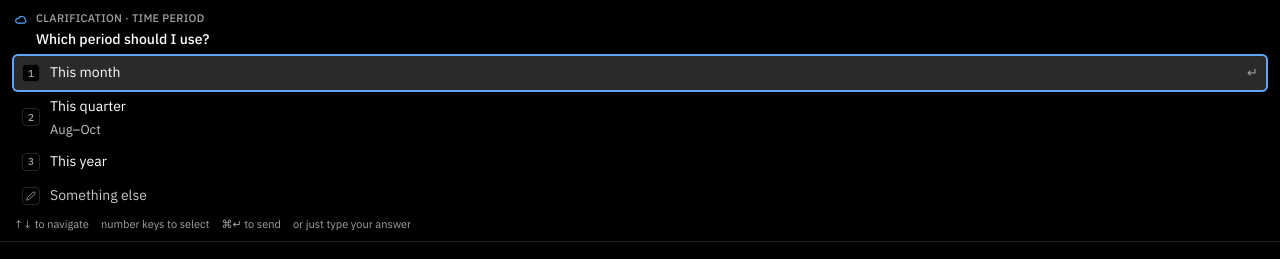
Test: multi-select › shows Done only once there is something to send, with a count
The image size is (1280, 259).
expect the button "Done" is not shown: met
Click the checkbox labelled "1 This month ↵". click: [85, 72]
box: [14,56,1266,90]
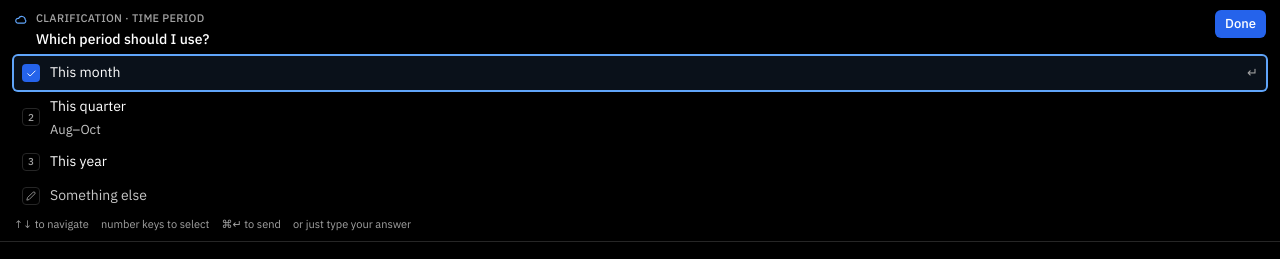
expect the button "Done" is shown: met, box [1215,10,1266,38]
Click the checkbox labelled "3 This year". click: [78, 161]
box: [14,145,1266,179]
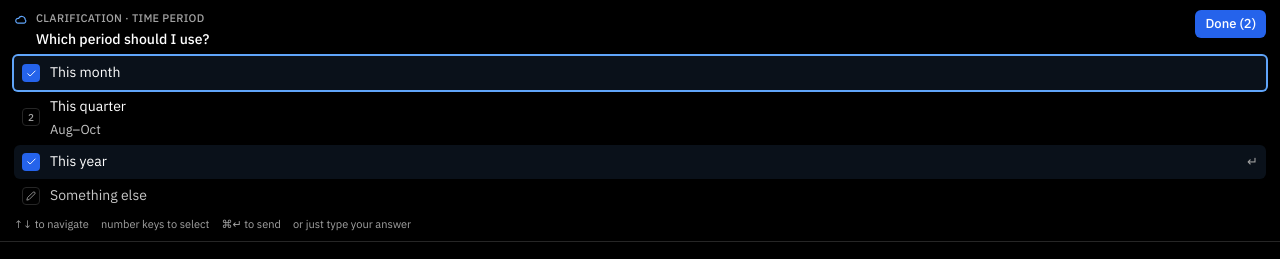
expect the button "Done (2)" is shown: met, box [1196,10,1266,38]
